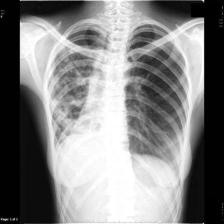tuberculosis: (40, 11, 194, 199)
